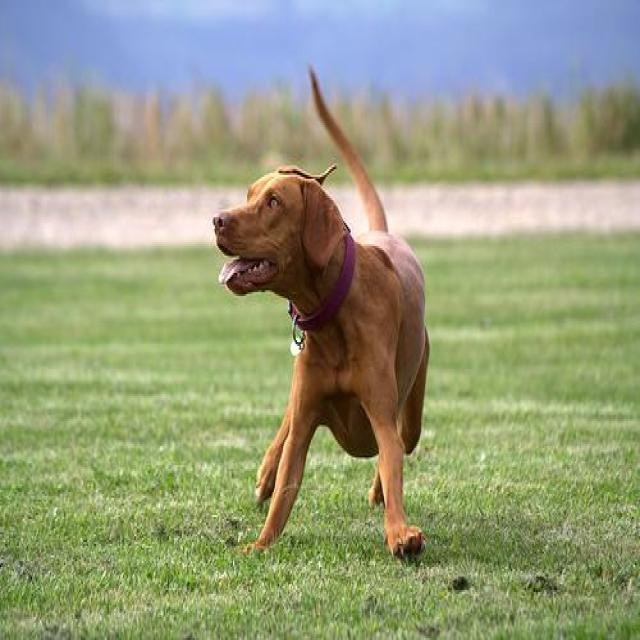vizsla: (210, 61, 431, 569)
